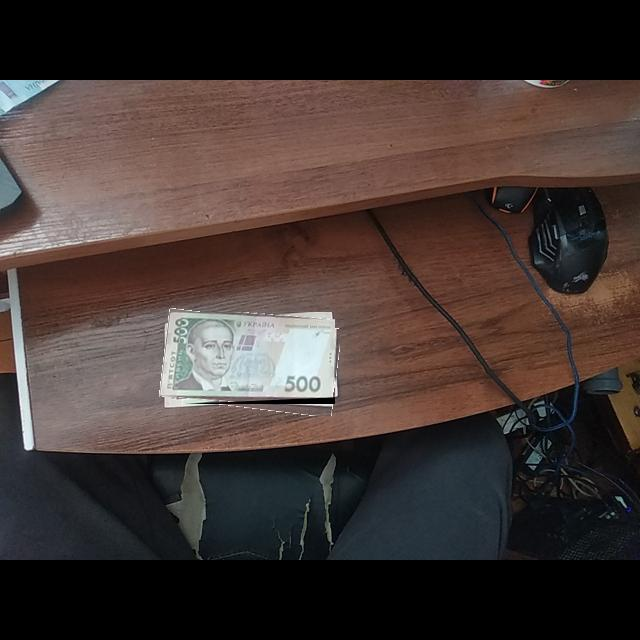500uah: (161, 313, 336, 400)
